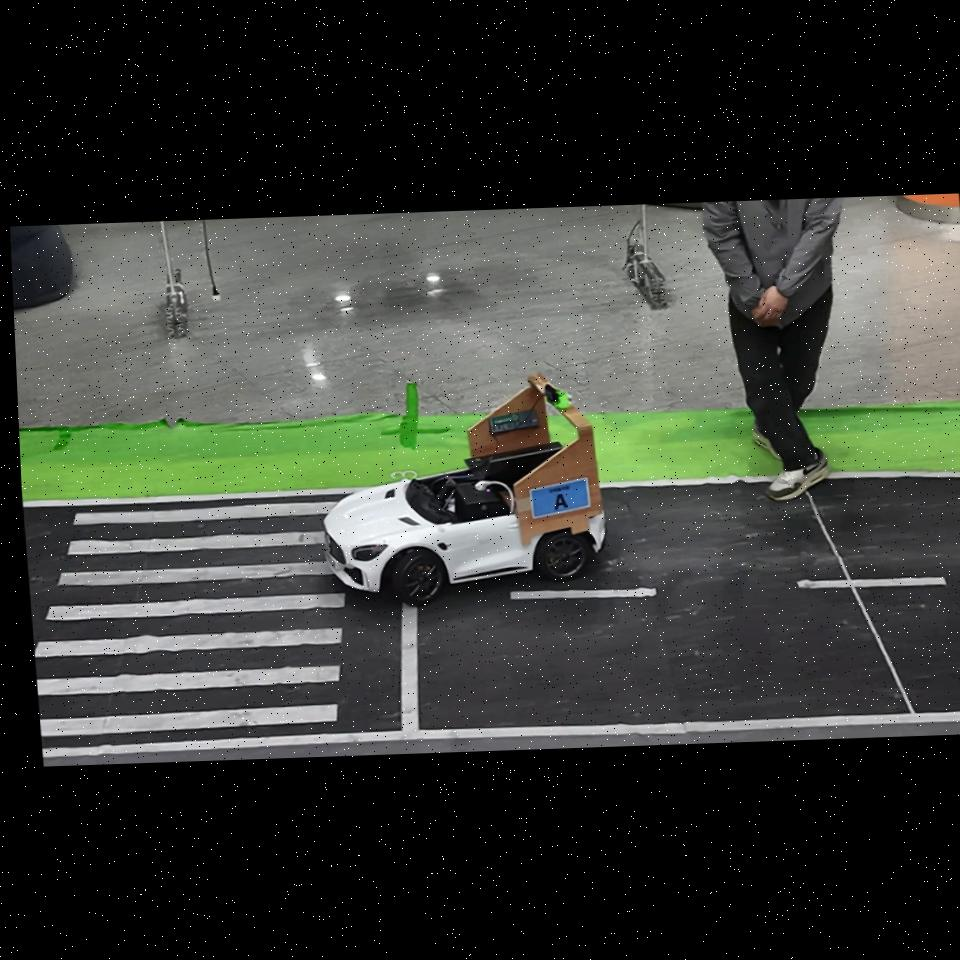broken_line: (797, 577, 946, 589), (510, 587, 656, 599)
crosswalk: (35, 502, 346, 736)
